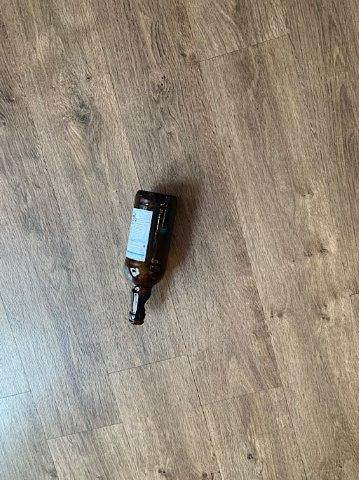botolkaca: (124, 192, 174, 324)
